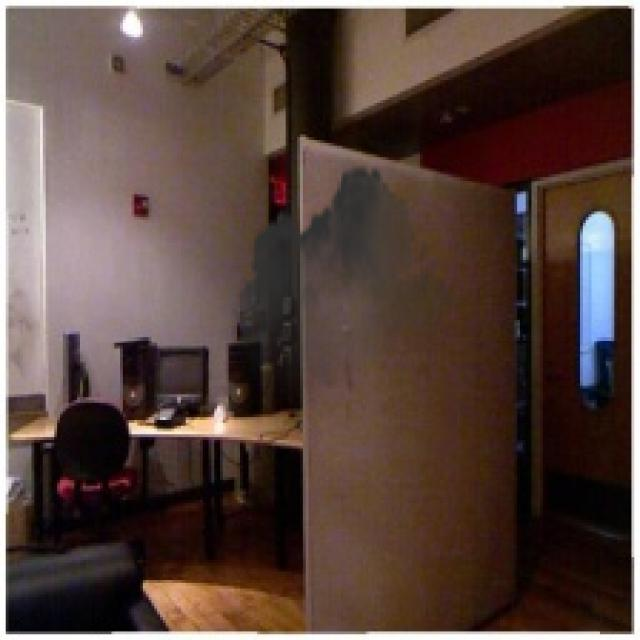smoke: (231, 154, 460, 432)
